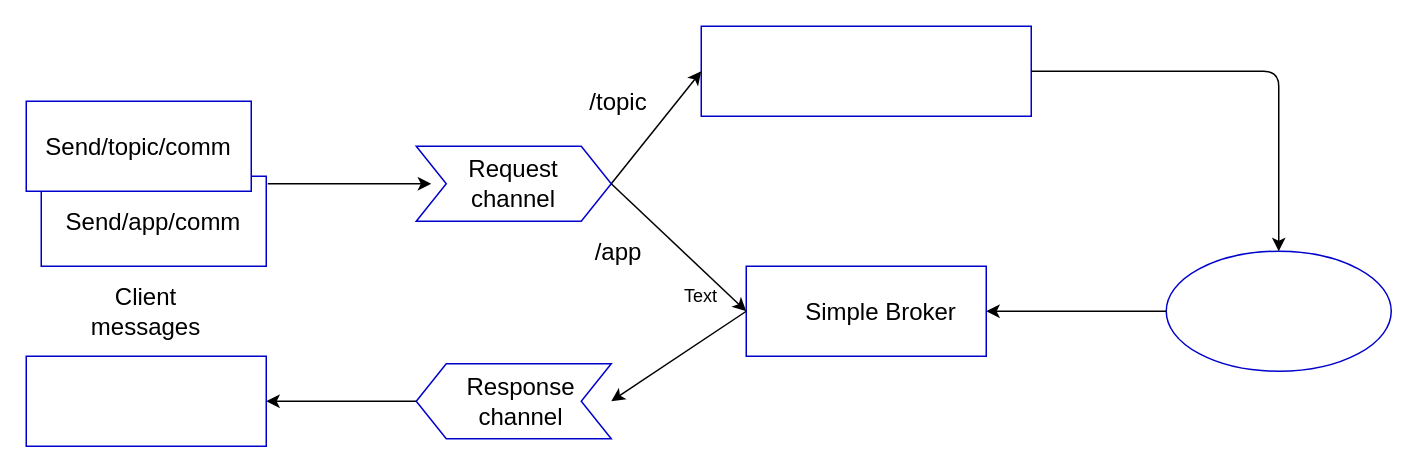
Image size: 1418x473. Some labels were removed from this diagram. Each missing label, with the centre of its shape:
"Broker channel" belongs at point (1278, 310).
"Controller method annotated with @MessageMapping(/comment)" belongs at point (865, 70).
"Message/topic/comm" belongs at point (145, 400).
